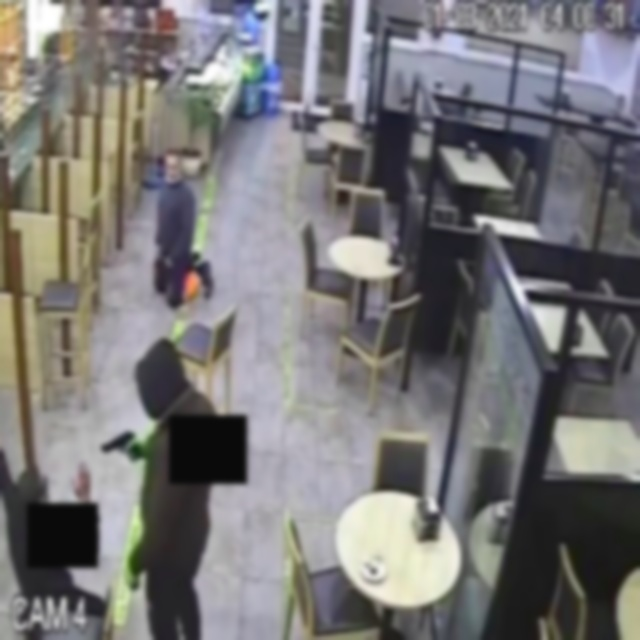gun: (92, 420, 138, 471)
